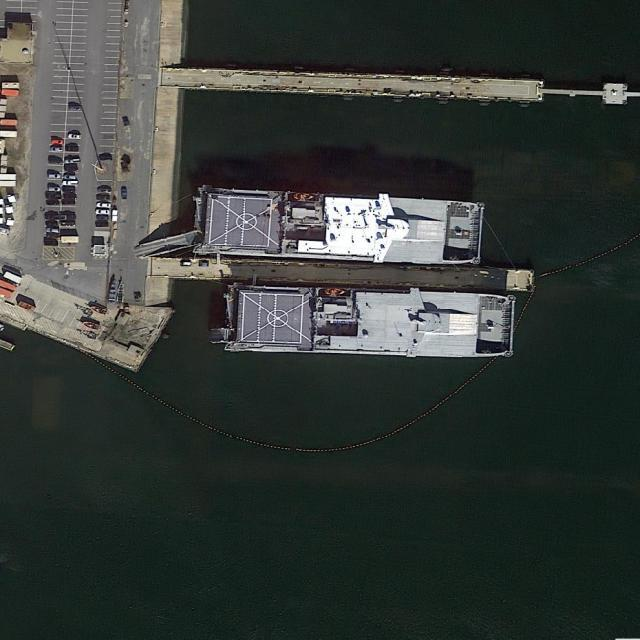Auxiliary Ships: (190, 180, 486, 273), (224, 279, 517, 362)
Dock: (172, 255, 533, 291), (182, 68, 544, 103)
